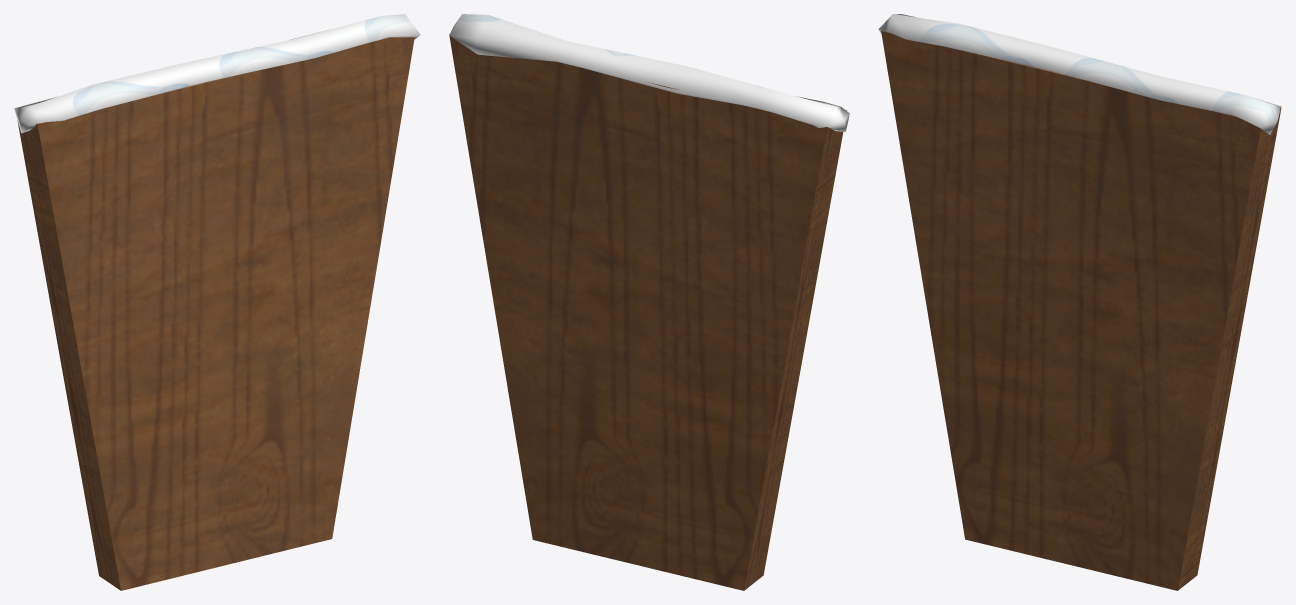
The model's file is LeaderBoardPanel01.glb.
The picture shows the model from 3 angles, left to right: view 1: azimuth 30°, elevation 25°; view 2: azimuth 150°, elevation 25°; view 3: azimuth 330°, elevation 25°; orthographic projection.
Visible parts, largest first — view 1: LeaderBoardPanel; view 2: LeaderBoardPanel; view 3: LeaderBoardPanel.
Boxes of the visible parts, bbox=[...] form: LeaderBoardPanel: bbox=[14, 14, 420, 590]; LeaderBoardPanel: bbox=[449, 14, 849, 590]; LeaderBoardPanel: bbox=[878, 14, 1281, 590].
Size of what is drawn, in the model's own units: 3.61 by 4.42 by 0.4134.
Materials: 2 (2 with a texture image).
